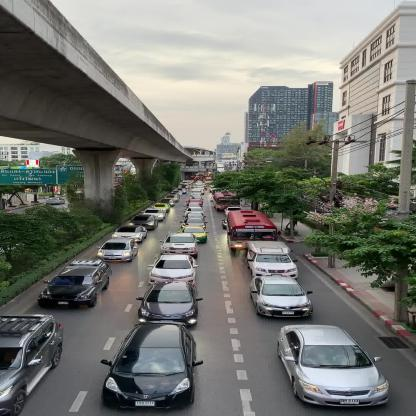bus: (226, 210, 275, 254)
car: (100, 319, 204, 413), (280, 324, 389, 407), (40, 259, 112, 309), (135, 280, 203, 327), (250, 276, 314, 318), (245, 242, 298, 276), (146, 254, 201, 282), (159, 233, 198, 257), (99, 238, 138, 260), (113, 225, 145, 242), (125, 214, 158, 230), (177, 228, 209, 244)
